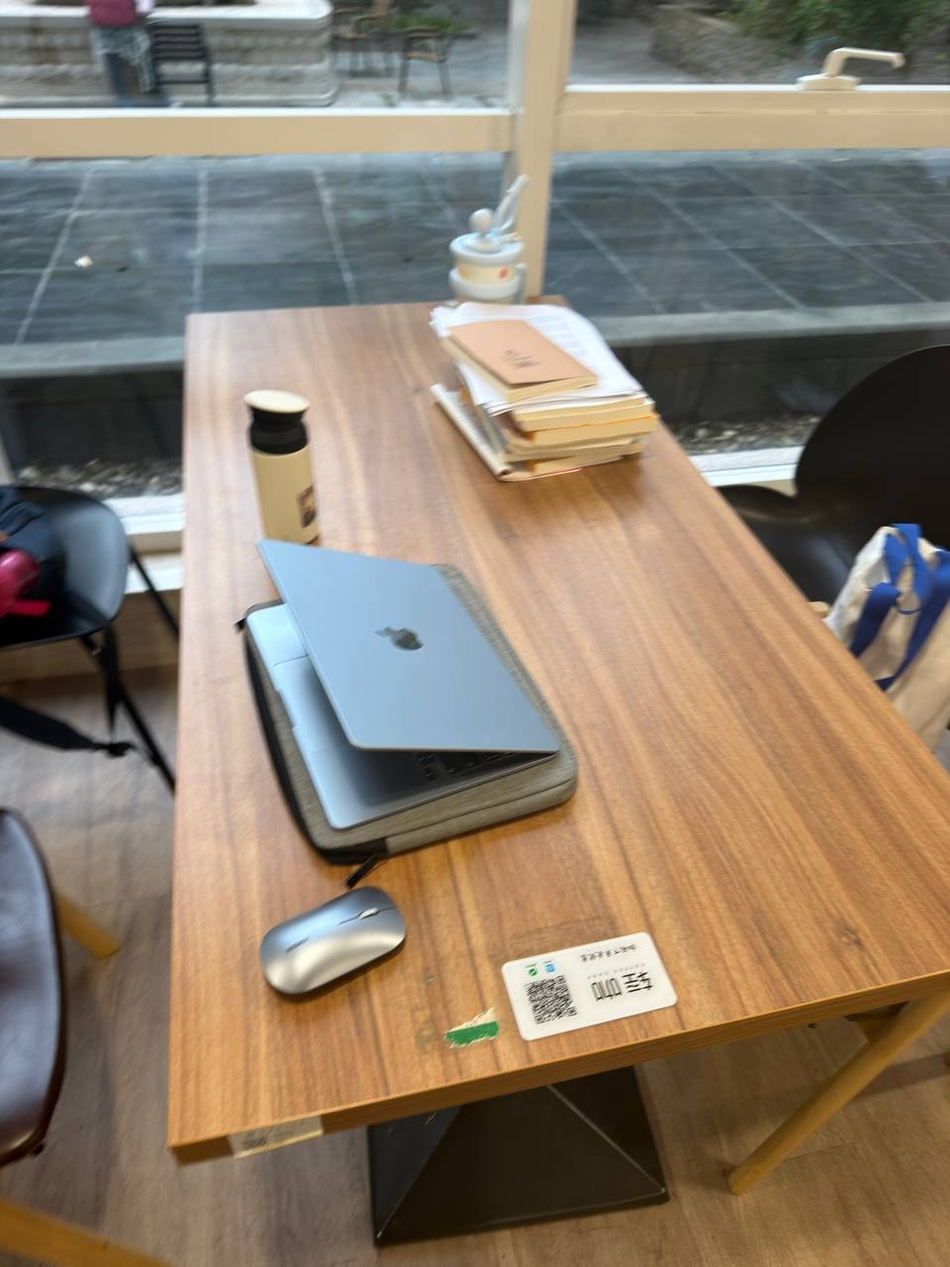laptop: (242, 537, 561, 831)
